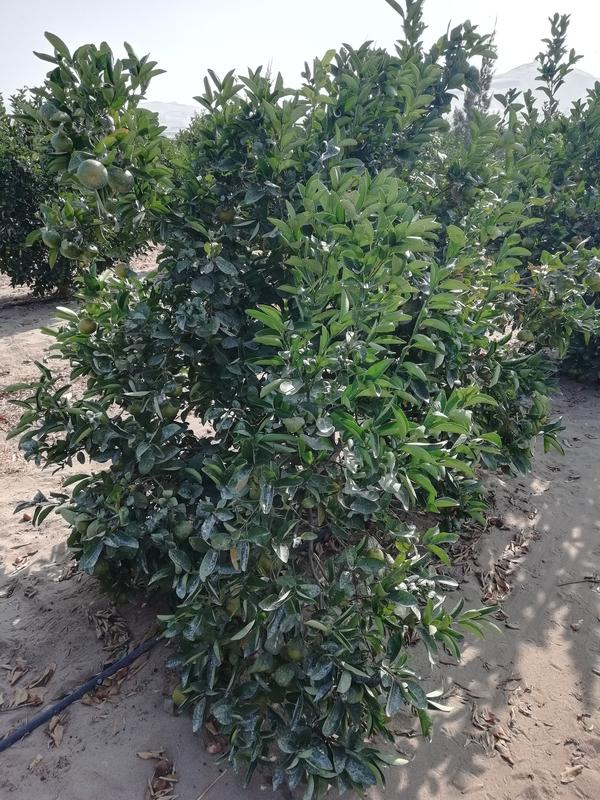mandarina verde: (79, 158, 109, 190), (108, 167, 133, 196), (42, 226, 62, 247), (78, 315, 96, 335), (63, 239, 81, 258)
